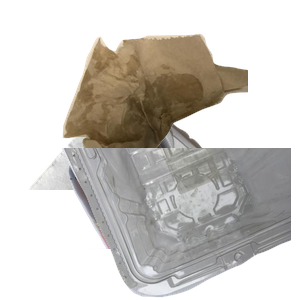glass: (66, 120, 300, 300)
paper: (10, 10, 250, 190)
plastic: (60, 148, 300, 300)
trash: (60, 31, 300, 189)
